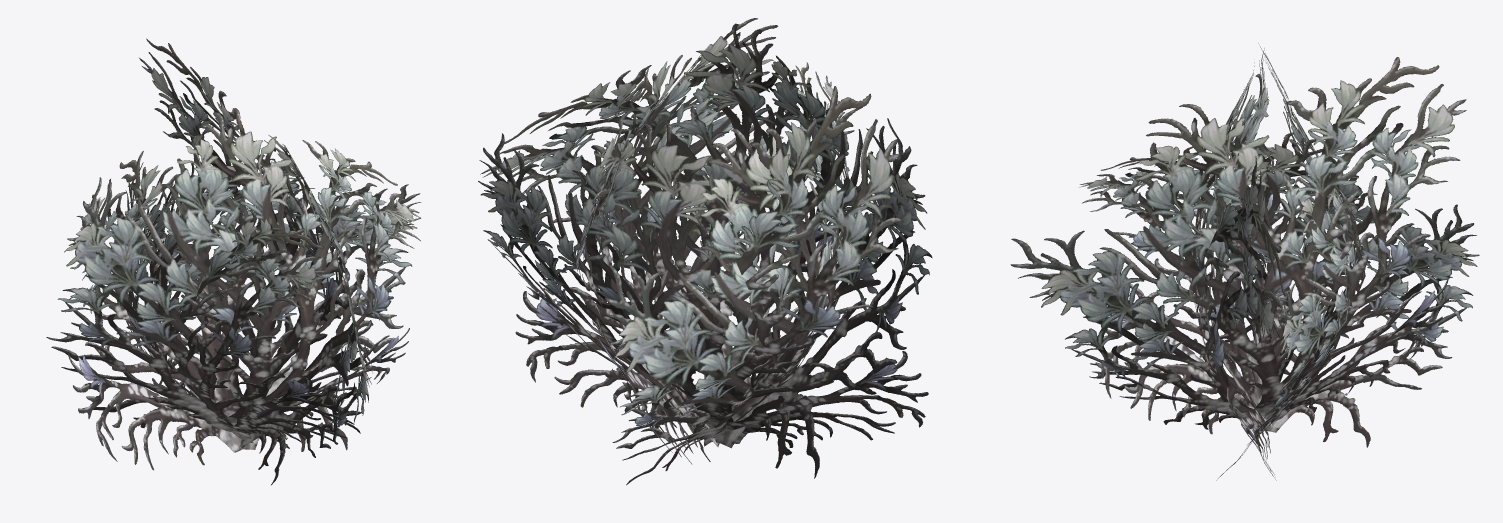
Rendered from wintergrasp_bush_01.obj.
3 views of the same model, side by side, from view 1: azimuth 30°, elevation 25°; view 2: azimuth 150°, elevation 25°; view 3: azimuth 270°, elevation 25° (orthographic). The views are drawn at different scales.
Parts seen in each view (by area): view 1: wintergrasp_bush_01; view 2: wintergrasp_bush_01; view 3: wintergrasp_bush_01.
Boxes of the visible parts, bbox=[...] form: wintergrasp_bush_01: bbox=[46, 38, 421, 485]; wintergrasp_bush_01: bbox=[478, 18, 932, 485]; wintergrasp_bush_01: bbox=[1010, 43, 1479, 480].
Size of the model in its own units: 2.05 by 1.96 by 2.25.
Materials: 1 (1 with a texture image).
